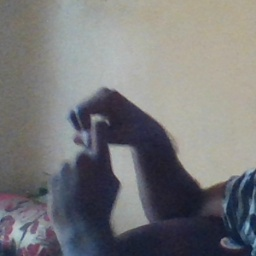Q: (47, 87, 143, 224)
